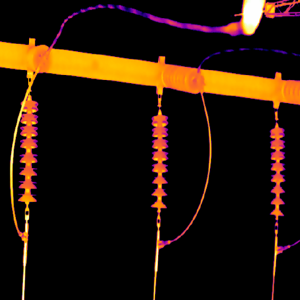insulator: (16, 97, 39, 205), (149, 113, 169, 210), (267, 124, 285, 220)
